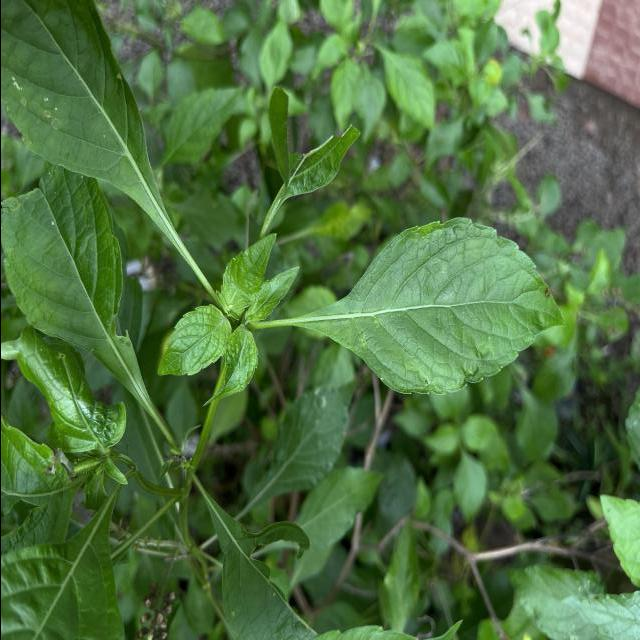Ocimum gratissimum: (292, 213, 568, 400)
